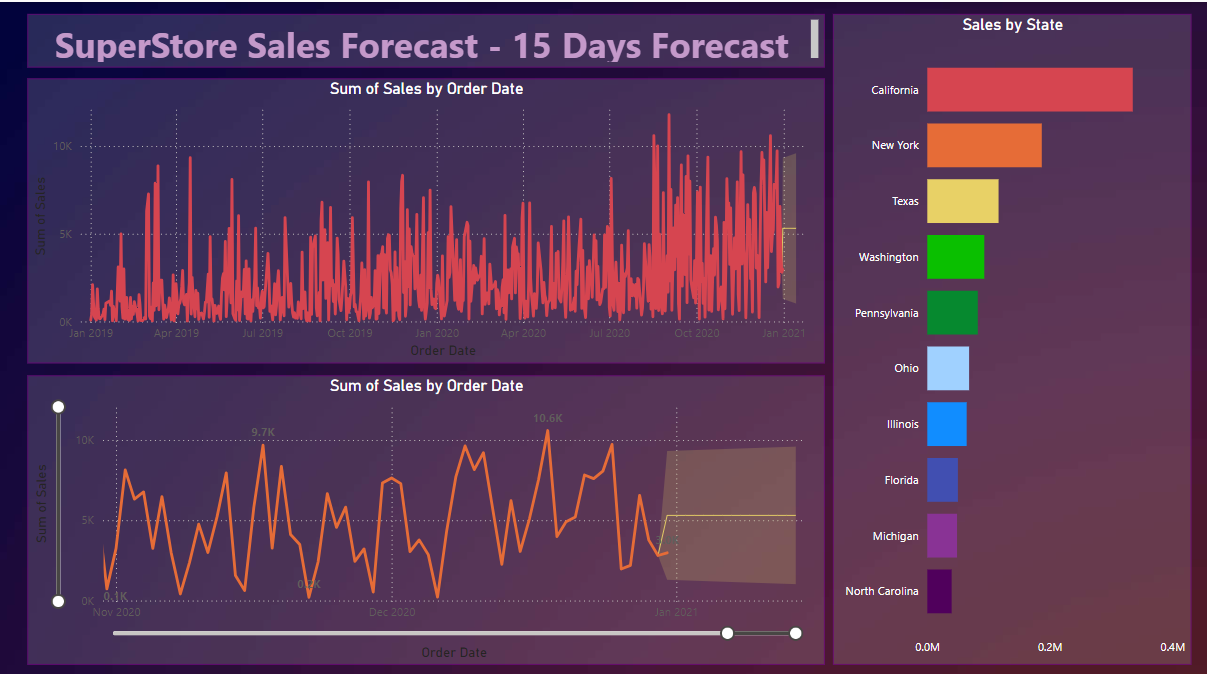

The page's visual inventory and layout, read from the dashboard file:
{"tool":"powerbi","page":{"name":"Page 2","canvas":[1280,720],"ordinal":1},"visuals":[{"type":"lineChart","fields":{"Y":["Sum(SuperStore_Sales_Dataset.Sales)"],"Category":["SuperStore_Sales_Dataset.Order Date"]},"box":[30,81.7,845,301.7],"z":0},{"type":"lineChart","fields":{"Y":["Sum(SuperStore_Sales_Dataset.Sales)"],"Category":["SuperStore_Sales_Dataset.Order Date"]},"box":[30,396.7,845,306.7],"z":1000},{"type":"textbox","box":[30,13.3,845,56.7],"z":2000},{"type":"barChart","title":"Sales by State","fields":{"Y":["Sum(SuperStore_Sales_Dataset.Sales)"],"Category":["SuperStore_Sales_Dataset.State"]},"box":[885,13.3,380,690],"z":2001}]}

Visuals, with their boxes in screenshot pixels (x1, y1, x2, y2), scaled from the page's 1280x720 canvas onto the 1207x674 screenshot:
lineChart - Sum(SuperStore_Sales_Dataset.Sales) x SuperStore_Sales_Dataset.Order Date: locate(28, 76, 825, 359)
lineChart - Sum(SuperStore_Sales_Dataset.Sales) x SuperStore_Sales_Dataset.Order Date: locate(28, 371, 825, 658)
textbox: locate(28, 12, 825, 66)
"Sales by State" barChart: locate(835, 12, 1193, 658)
